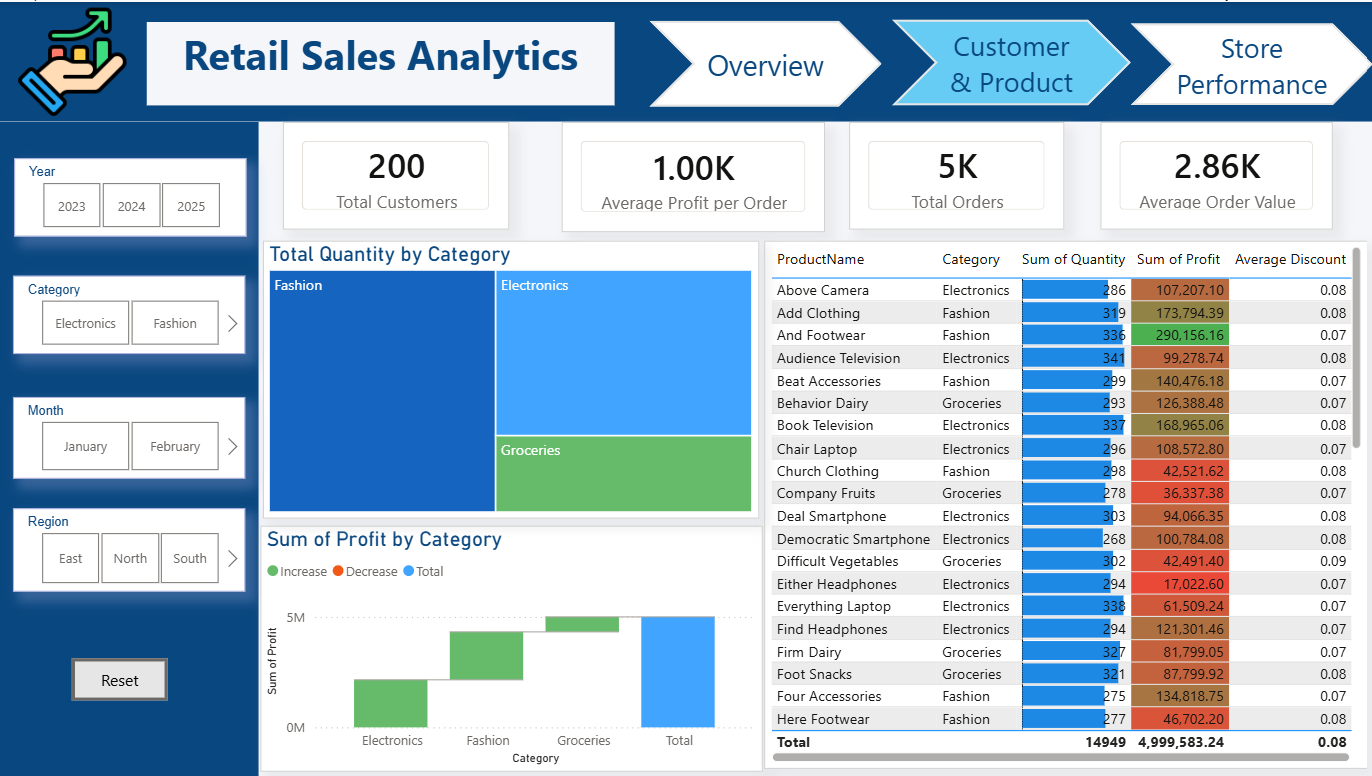

Layout of this report page (visuals, bound fields, positions):
{"tool":"powerbi","page":{"name":"Customer & Product","canvas":[1280,720],"ordinal":1},"visuals":[{"type":"shape","box":[0,111.2,242.5,608.8],"z":0,"group":"g1"},{"type":"cardVisual","fields":{"Data":["retail_sales_clean.Average Profit per Order"]},"box":[524.1,111.2,245,102.5],"z":0,"group":"g2"},{"type":"group","id":"g1","title":"all","box":[0,0,1280,720],"z":1000},{"type":"cardVisual","title":"👥","fields":{"Data":["retail_sales_clean.Total Customers"]},"box":[265,111.2,210,100],"z":1000,"group":"g2"},{"type":"shape","box":[1.2,0,1278.8,111.2],"z":2000,"group":"g1"},{"type":"group","id":"g2","title":"Customer & Product","box":[243.8,111.2,1029.9,604.2],"z":2000},{"type":"cardVisual","fields":{"Data":["retail_sales_clean.Total Orders"]},"box":[791.3,111.2,200,100],"z":2000,"group":"g2"},{"type":"cardVisual","fields":{"Data":["retail_sales_clean.Average Order Value"]},"box":[1025.1,111.2,216.2,100],"z":3000,"group":"g2"},{"type":"slicer","fields":{"Values":["retail_sales_clean.Year"]},"box":[15.3,145.8,216.2,72.5],"z":3000,"group":"g1"},{"type":"actionButton","box":[69,610.6,89.3,39.6],"z":3000},{"type":"slicer","fields":{"Values":["retail_sales_clean.Date.Variation.Date Hierarchy.Month"]},"box":[14,367,216.2,76.2],"z":4000,"group":"g1"},{"type":"waterfallChart","fields":{"Category":["retail_sales_clean.Category"],"Y":["Sum(retail_sales_clean.Profit)"]},"box":[243.8,486.6,467.5,228.8],"z":4000,"group":"g2"},{"type":"slicer","fields":{"Values":["retail_sales_clean.Category"]},"box":[14,254.5,216.2,72.5],"z":5000,"group":"g1"},{"type":"tableEx","fields":{"Values":["retail_sales_clean.ProductName","retail_sales_clean.Category","Sum(retail_sales_clean.Quantity)","Sum(retail_sales_clean.Profit)","retail_sales_clean.Average Discount"]},"box":[712.4,221.6,561.2,491.2],"z":6000,"group":"g2"},{"type":"slicer","fields":{"Values":["retail_sales_clean.Region"]},"box":[14,470.8,216.2,77.5],"z":6000,"group":"g1"},{"type":"textbox","box":[138.8,18.8,435,77.5],"z":7000,"group":"g1"},{"type":"treemap","fields":{"Group":["retail_sales_clean.Category"],"Values":["retail_sales_clean.Total Quantity"]},"box":[246.2,221.6,461.2,258.8],"z":7000,"group":"g2"},{"type":"image","box":[0,0,138.8,111.2],"z":8000,"group":"g1"},{"type":"actionButton","title":"Store Performance","box":[1053.8,20,226.2,76.2],"z":9000,"group":"g1"},{"type":"actionButton","title":"Overview","box":[606.2,17.5,216.2,80],"z":11000,"group":"g1"},{"type":"actionButton","title":"Customer & Product","box":[831.2,16.2,222.5,80],"z":13000,"group":"g1"}]}

Visuals, with their boxes in screenshot pixels (x1, y1, x2, y2), scaled from the page's 1280x720 canvas onto the 1372x776 screenshot:
shape: region(0, 120, 260, 775)
cardVisual - retail_sales_clean.Average Profit per Order: region(562, 120, 824, 230)
"all" group: region(0, 0, 1371, 775)
"👥" cardVisual: region(284, 120, 509, 228)
shape: region(1, 0, 1371, 120)
"Customer & Product" group: region(261, 120, 1365, 771)
cardVisual - retail_sales_clean.Total Orders: region(848, 120, 1063, 228)
cardVisual - retail_sales_clean.Average Order Value: region(1099, 120, 1331, 228)
slicer - retail_sales_clean.Year: region(16, 157, 248, 235)
actionButton: region(74, 658, 170, 701)
slicer - retail_sales_clean.Date.Variation.Date Hierarchy.Month: region(15, 396, 247, 478)
waterfallChart - retail_sales_clean.Category x Sum(retail_sales_clean.Profit): region(261, 524, 762, 771)
slicer - retail_sales_clean.Category: region(15, 274, 247, 352)
tableEx - retail_sales_clean.ProductName x retail_sales_clean.Category: region(764, 239, 1365, 768)
slicer - retail_sales_clean.Region: region(15, 507, 247, 591)
textbox: region(149, 20, 615, 104)
treemap - retail_sales_clean.Category x retail_sales_clean.Total Quantity: region(264, 239, 758, 518)
image: region(0, 0, 149, 120)
"Store Performance" actionButton: region(1130, 22, 1371, 104)
"Overview" actionButton: region(650, 19, 882, 105)
"Customer & Product" actionButton: region(891, 17, 1129, 104)
